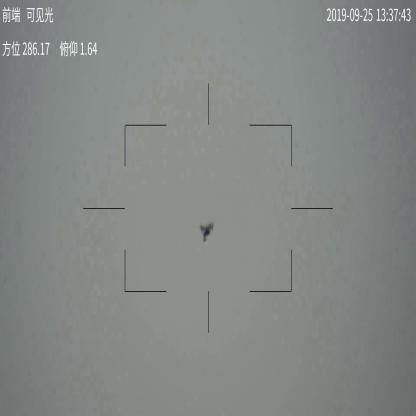uav: (199, 218, 219, 244)
